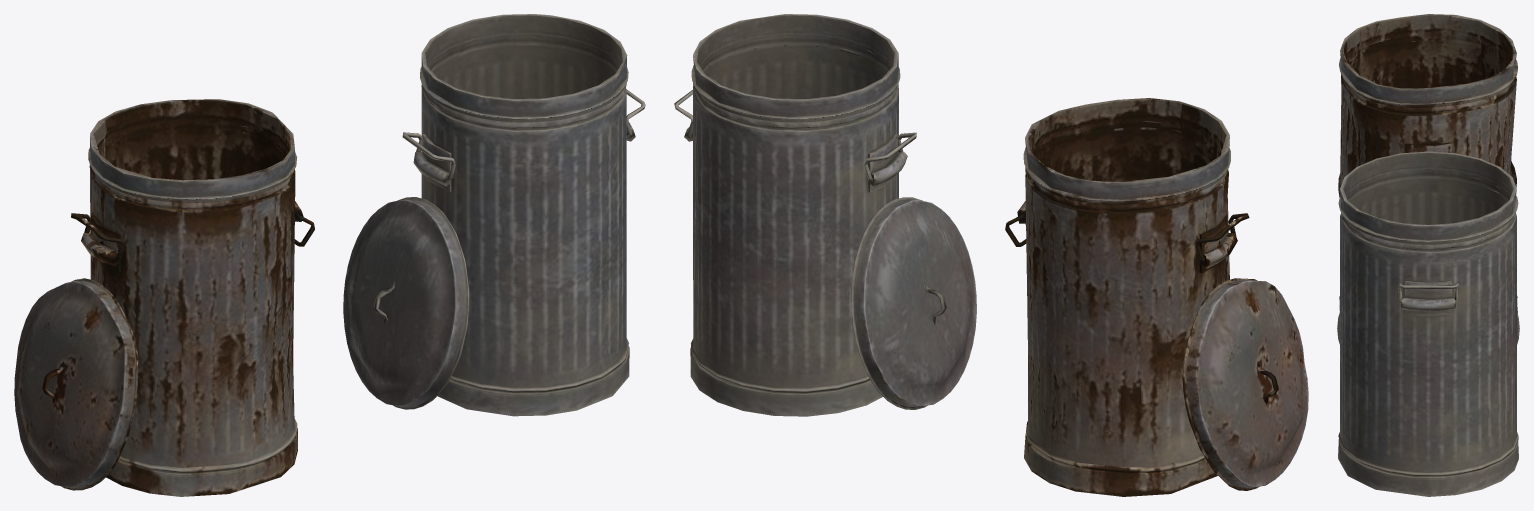
File: metal_trash_can.lod1.glb
3 views of the same model, side by side, from view 1: azimuth 30°, elevation 25°; view 2: azimuth 150°, elevation 25°; view 3: azimuth 270°, elevation 25° (orthographic). The views are drawn at different scales.
Parts seen in each view (by area): view 1: metal_trash_can, metal_trash_can_rust, metal_trash_can_lid, metal_trash_can_rust_lid; view 2: metal_trash_can, metal_trash_can_rust, metal_trash_can_lid, metal_trash_can_rust_lid; view 3: metal_trash_can, metal_trash_can_rust, metal_trash_can_handle_right.
Boxes of the visible parts, x1,y1,x2,y2 form: metal_trash_can: [413, 14, 635, 416]; metal_trash_can_rust: [81, 99, 303, 496]; metal_trash_can_lid: [343, 197, 469, 409]; metal_trash_can_rust_lid: [14, 278, 138, 490]; metal_trash_can: [684, 14, 907, 416]; metal_trash_can_rust: [1017, 98, 1237, 496]; metal_trash_can_lid: [850, 197, 976, 409]; metal_trash_can_rust_lid: [1182, 278, 1308, 490]; metal_trash_can: [1338, 151, 1518, 496]; metal_trash_can_rust: [1339, 14, 1517, 314]; metal_trash_can_handle_right: [1398, 283, 1458, 303].
Bounding box in the file's own units: 1.78 × 0.9062 × 0.5563.
2 materials, 2 textured.
